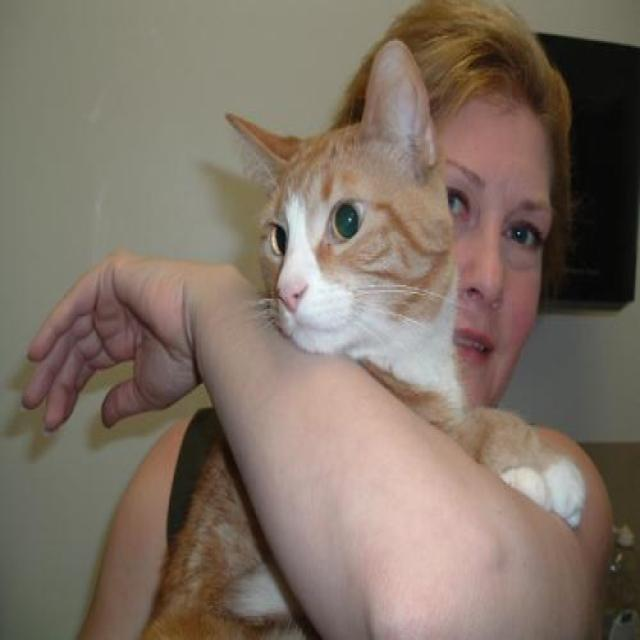Cats: (121, 34, 588, 638)
